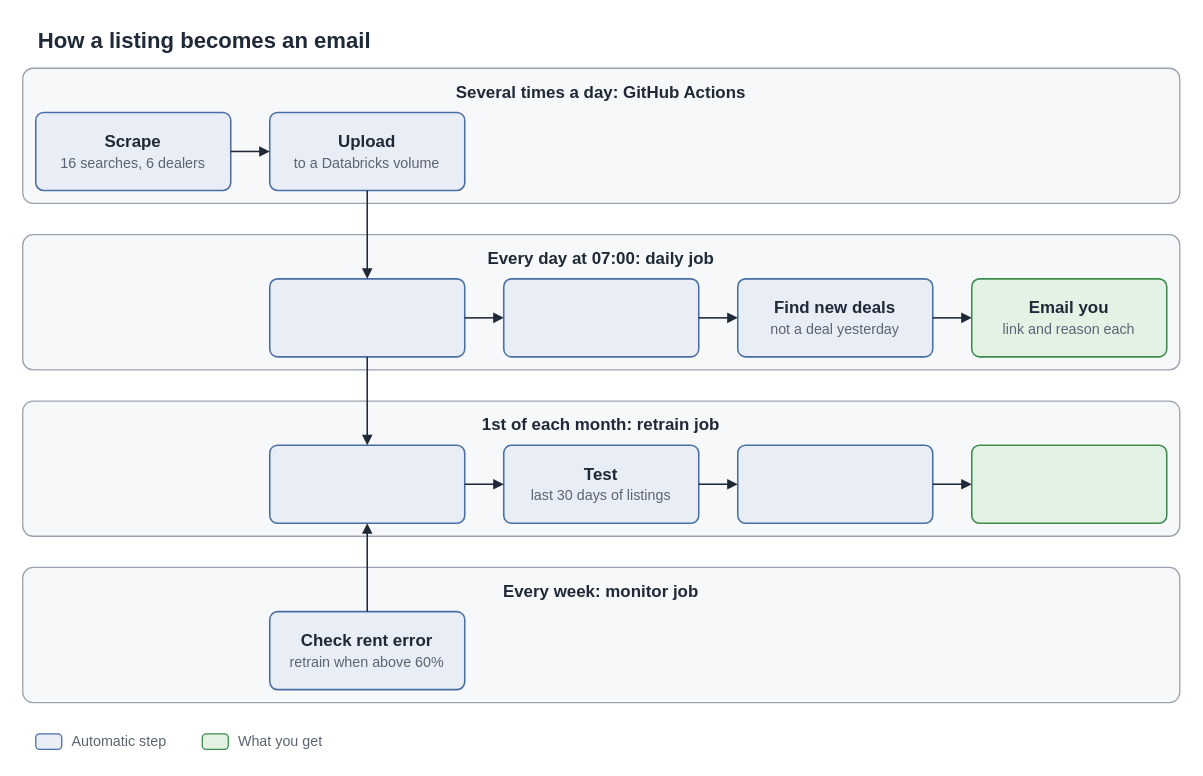
This 1203x776 diagram has some shape labels left out. Here are the shapes that lost their labels. From the top down, the centre of each, then its label:
[366,317]: Clean bronze, silver, gold
[600,317]: Score listings price, range, good deal
[366,483]: Tune models 3 model types, Optuna
[834,483]: Promote if better than champion and baseline
[1068,483]: New champion app, endpoint, scoring
